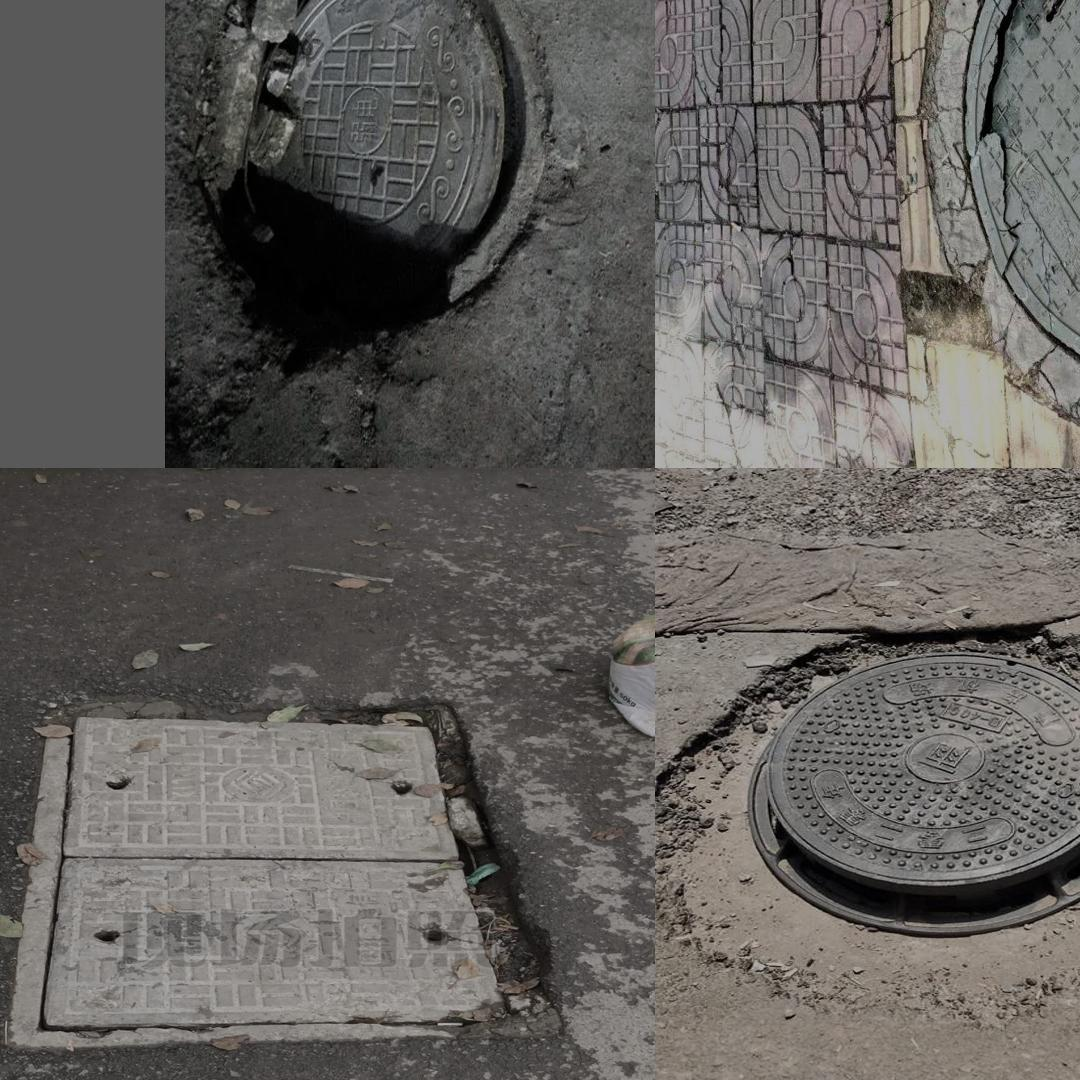circle: (15, 702, 567, 1047), (666, 629, 1080, 1017), (179, 0, 563, 345), (909, 0, 1080, 432)
